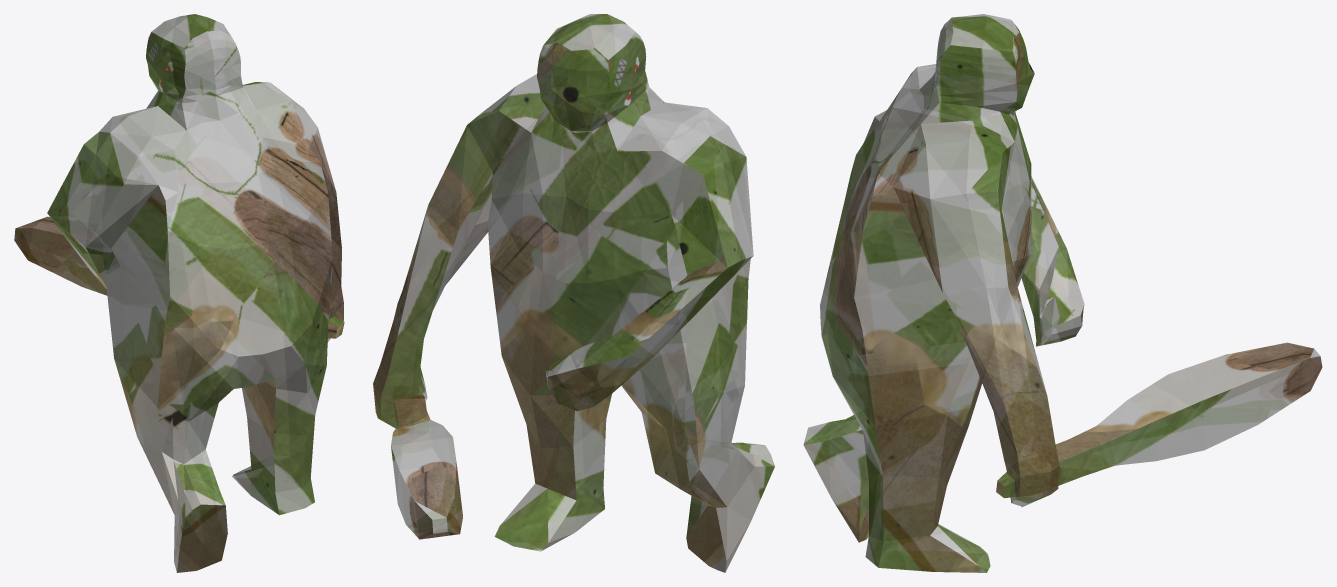
Rendered from Enemigo220.obj.
3 renders of one model, left to right at view 1: azimuth 30°, elevation 25°; view 2: azimuth 150°, elevation 25°; view 3: azimuth 270°, elevation 25°, orthographic. The views are drawn at different scales.
Parts seen in each view (by area): view 1: Cube; view 2: Cube; view 3: Cube.
Part boxes in pixels (x1,y1,x2,y2): Cube: (14, 14, 344, 572); Cube: (373, 14, 774, 572); Cube: (803, 14, 1322, 572).
Bounding box in the file's own units: 1.76 × 2.81 × 2.41.
